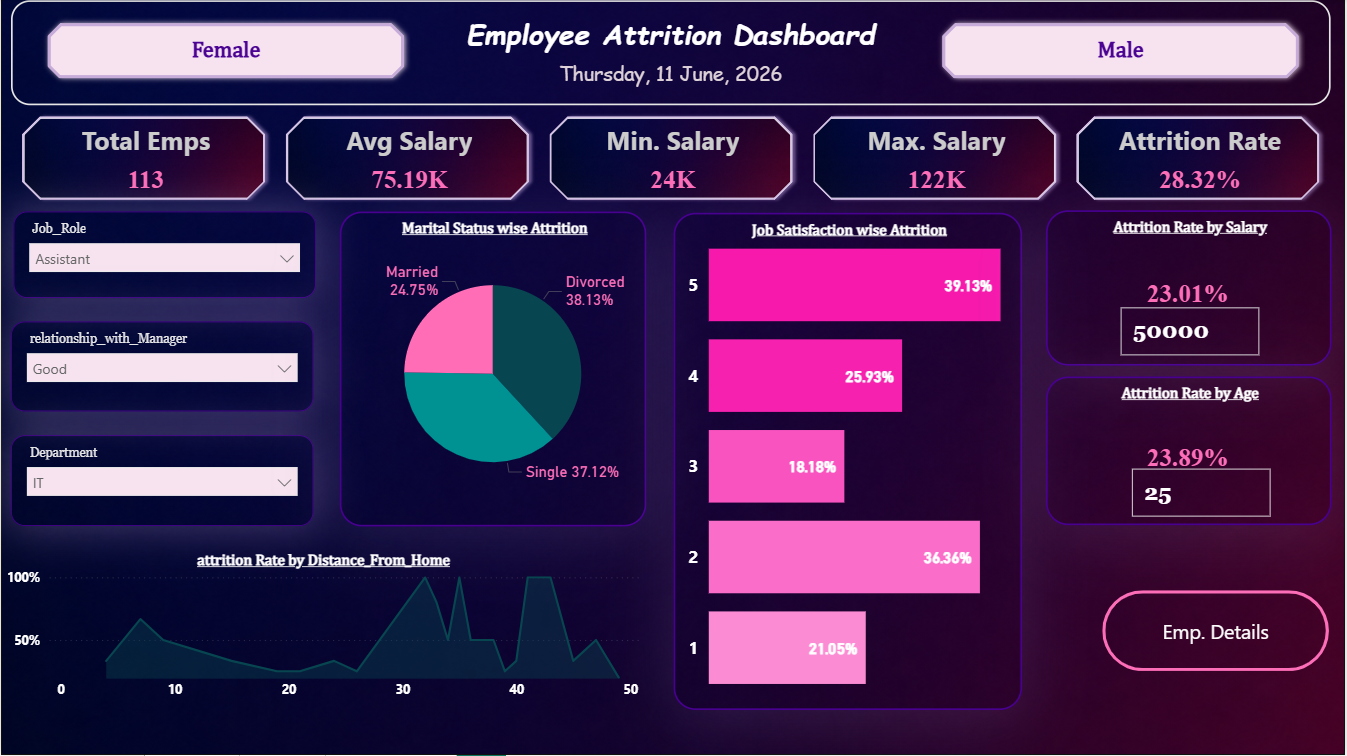

This screenshot's page, from the dashboard's own definition file:
{"tool":"powerbi","page":{"name":"Main","canvas":[1280,720],"ordinal":0},"visuals":[{"type":"textbox","box":[10,1.4,1257.1,100],"z":0},{"type":"card","fields":{"Values":["emp_attrition.Current date"]},"box":[467.1,44.3,342.9,57.1],"z":1000},{"type":"cardVisual","fields":{"Data":["CountNonNull(emp_attrition.Employee_ID)","Avg(emp_attrition.Monthly_Income)","Min(emp_attrition.Monthly_Income)1","Max(emp_attrition.Monthly_Income)2","emp_attrition.attrition Rate"]},"box":[9.5,101.2,1257.1,101.2],"z":2000},{"type":"slicer","fields":{"Values":["emp_attrition.Department"]},"box":[10,415.6,287.8,86.7],"z":3000},{"type":"slicer","fields":{"Values":["emp_attrition.Job_Role"]},"box":[12.2,202.2,287.8,82.2],"z":4000},{"type":"slicer","fields":{"Values":["emp_attrition.relationship_with_Manager"]},"box":[10,306.7,287.8,85.6],"z":5000},{"type":"advancedSlicerVisual","fields":{"Values":["emp_attrition.Gender"]},"box":[32.8,12.3,1214.4,75.9],"z":6000},{"type":"pieChart","title":"Marital Status wise Attrition","fields":{"Y":["emp_attrition.attrition Rate"],"Category":["emp_attrition.Marital_Status"]},"box":[322.2,202.2,292.2,300],"z":7000},{"type":"clusteredBarChart","title":"Job Satisfaction wise Attrition","fields":{"Category":["emp_attrition.Job_Satisfaction"],"Y":["emp_attrition.attrition Rate"]},"box":[640,203.5,332.1,474],"z":8000},{"type":"cardVisual","title":"Attrition Rate by Salary","fields":{"Data":["emp_attrition.attrition Rate high salary"]},"box":[995,201.7,271.7,148.3],"z":9000},{"type":"lineChart","fields":{"Y":["emp_attrition.attrition Rate"],"Category":["emp_attrition.Distance_From_Home"]},"box":[0,527.8,614.4,148.9],"z":10000},{"type":"slicer","fields":{"Values":["Parameter.Parameter"]},"box":[1053.3,283.3,163.3,90],"z":11000},{"type":"cardVisual","title":"Attrition Rate by Age","fields":{"Data":["emp_attrition.attrition Rate Age"]},"box":[995,359,271.7,141.7],"z":12000},{"type":"actionButton","box":[1048.7,562.9,215.9,77.1],"z":13000},{"type":"slicer","fields":{"Values":["age.age"]},"box":[1064,437,157.9,75],"z":14000}]}

Visuals, with their boxes in screenshot pixels (x1, y1, x2, y2), scaled from the page's 1280x720 canvas onto the 1347x756 screenshot:
textbox: [11,1,1333,106]
card - emp_attrition.Current date: [492,47,852,106]
cardVisual - CountNonNull(emp_attrition.Employee_ID) x Avg(emp_attrition.Monthly_Income): [10,106,1333,213]
slicer - emp_attrition.Department: [11,436,313,527]
slicer - emp_attrition.Job_Role: [13,212,316,299]
slicer - emp_attrition.relationship_with_Manager: [11,322,313,412]
advancedSlicerVisual - emp_attrition.Gender: [35,13,1312,93]
"Marital Status wise Attrition" pieChart: [339,212,647,527]
"Job Satisfaction wise Attrition" clusteredBarChart: [674,214,1023,711]
"Attrition Rate by Salary" cardVisual: [1047,212,1333,368]
lineChart - emp_attrition.attrition Rate x emp_attrition.Distance_From_Home: [0,554,647,711]
slicer - Parameter.Parameter: [1108,297,1280,392]
"Attrition Rate by Age" cardVisual: [1047,377,1333,526]
actionButton: [1104,591,1331,672]
slicer - age.age: [1120,459,1286,538]
